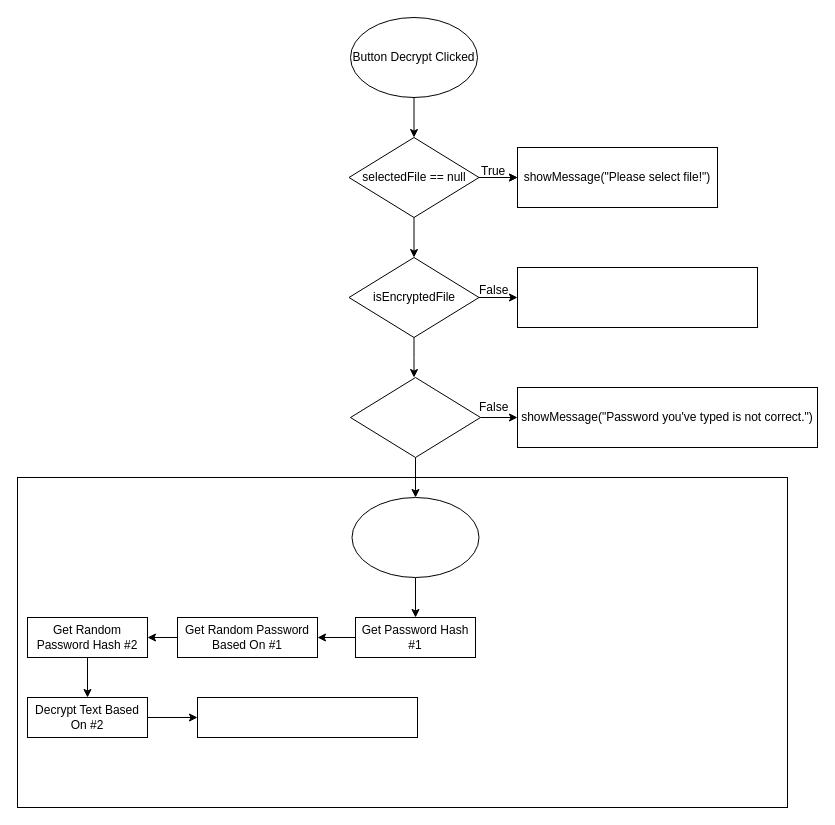
The diagram is 835 pixels wide and 825 high, and some of its shapes have lost their labels. Here are the shapes that lost their labels. From the top down, the box of each, then its label:
(516, 266, 758, 328): showMessage("This file is not encrypted.")
(350, 376, 480, 458): isPasswordCorrect
(351, 496, 479, 578): Start Decrypt File
(196, 696, 418, 738): Write Decrypted Content To New File Line By Line
